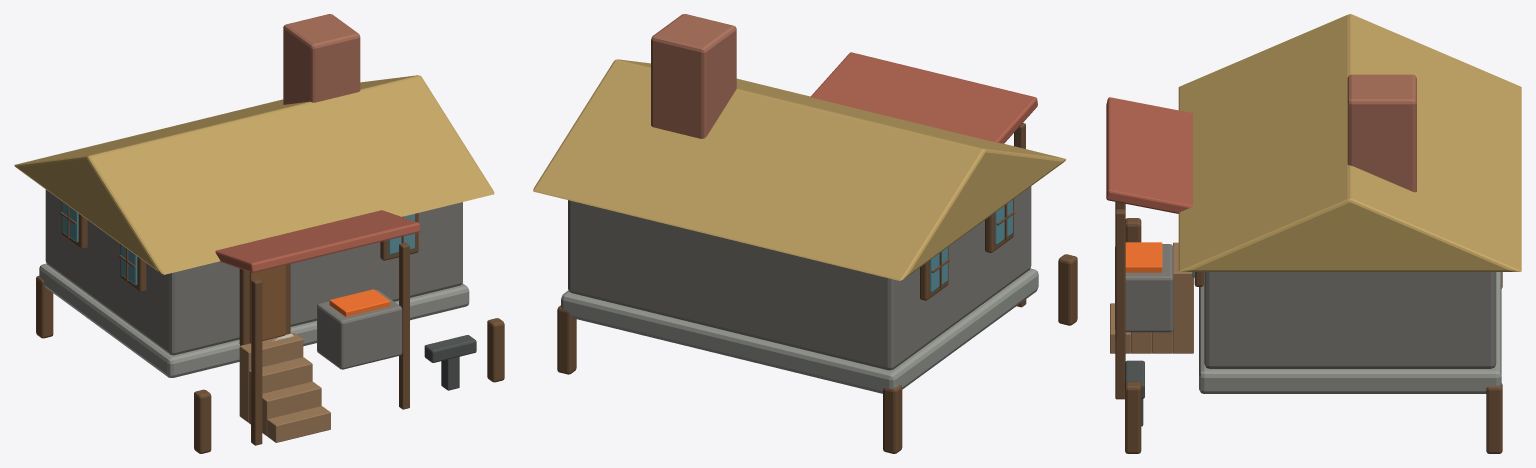
Rendered from wetland-smithy-0.glb.
3 views of the same model, side by side, from view 1: azimuth 30°, elevation 25°; view 2: azimuth 150°, elevation 25°; view 3: azimuth 270°, elevation 25° (orthographic). The views are drawn at different scales.
Visible parts, largest first — view 1: Golden thatch, Soot stone, Dark beams, Foundation stone, Aged oak, Chimney brick, Clay tiles, Door oak, Forged iron, Blue glass, Forge ember; view 2: Golden thatch, Soot stone, Foundation stone, Clay tiles, Chimney brick, Dark beams, Blue glass; view 3: Golden thatch, Soot stone, Clay tiles, Foundation stone, Chimney brick, Dark beams, Aged oak, Forge ember, Forged iron.
Boxes of the visible parts, left/top/right/bottom form: Golden thatch: left=14, top=75, right=494, bottom=274; Soot stone: left=45, top=189, right=462, bottom=369; Dark beams: left=36, top=201, right=504, bottom=453; Foundation stone: left=39, top=263, right=469, bottom=377; Aged oak: left=239, top=333, right=330, bottom=442; Chimney brick: left=283, top=14, right=360, bottom=104; Clay tiles: left=215, top=210, right=420, bottom=272; Door oak: left=249, top=265, right=285, bottom=343; Forged iron: left=424, top=335, right=476, bottom=390; Blue glass: left=62, top=202, right=414, bottom=285; Forge ember: left=329, top=289, right=390, bottom=316; Golden thatch: left=533, top=59, right=1066, bottom=280; Soot stone: left=568, top=186, right=1031, bottom=370; Foundation stone: left=561, top=268, right=1038, bottom=393; Clay tiles: left=810, top=52, right=1037, bottom=143; Chimney brick: left=651, top=14, right=736, bottom=138; Dark beams: left=557, top=123, right=1077, bottom=453; Blue glass: left=930, top=200, right=1012, bottom=292; Golden thatch: left=1178, top=14, right=1521, bottom=271; Soot stone: left=1115, top=244, right=1496, bottom=368; Clay tiles: left=1106, top=97, right=1192, bottom=213; Foundation stone: left=1199, top=272, right=1501, bottom=393; Chimney brick: left=1347, top=74, right=1416, bottom=192; Dark beams: left=1115, top=202, right=1502, bottom=453; Aged oak: left=1110, top=242, right=1193, bottom=353; Forge ember: left=1125, top=242, right=1162, bottom=272; Forged iron: left=1125, top=360, right=1144, bottom=426.
Size of the model in its own units: 4.85 by 3.98 by 4.56.
